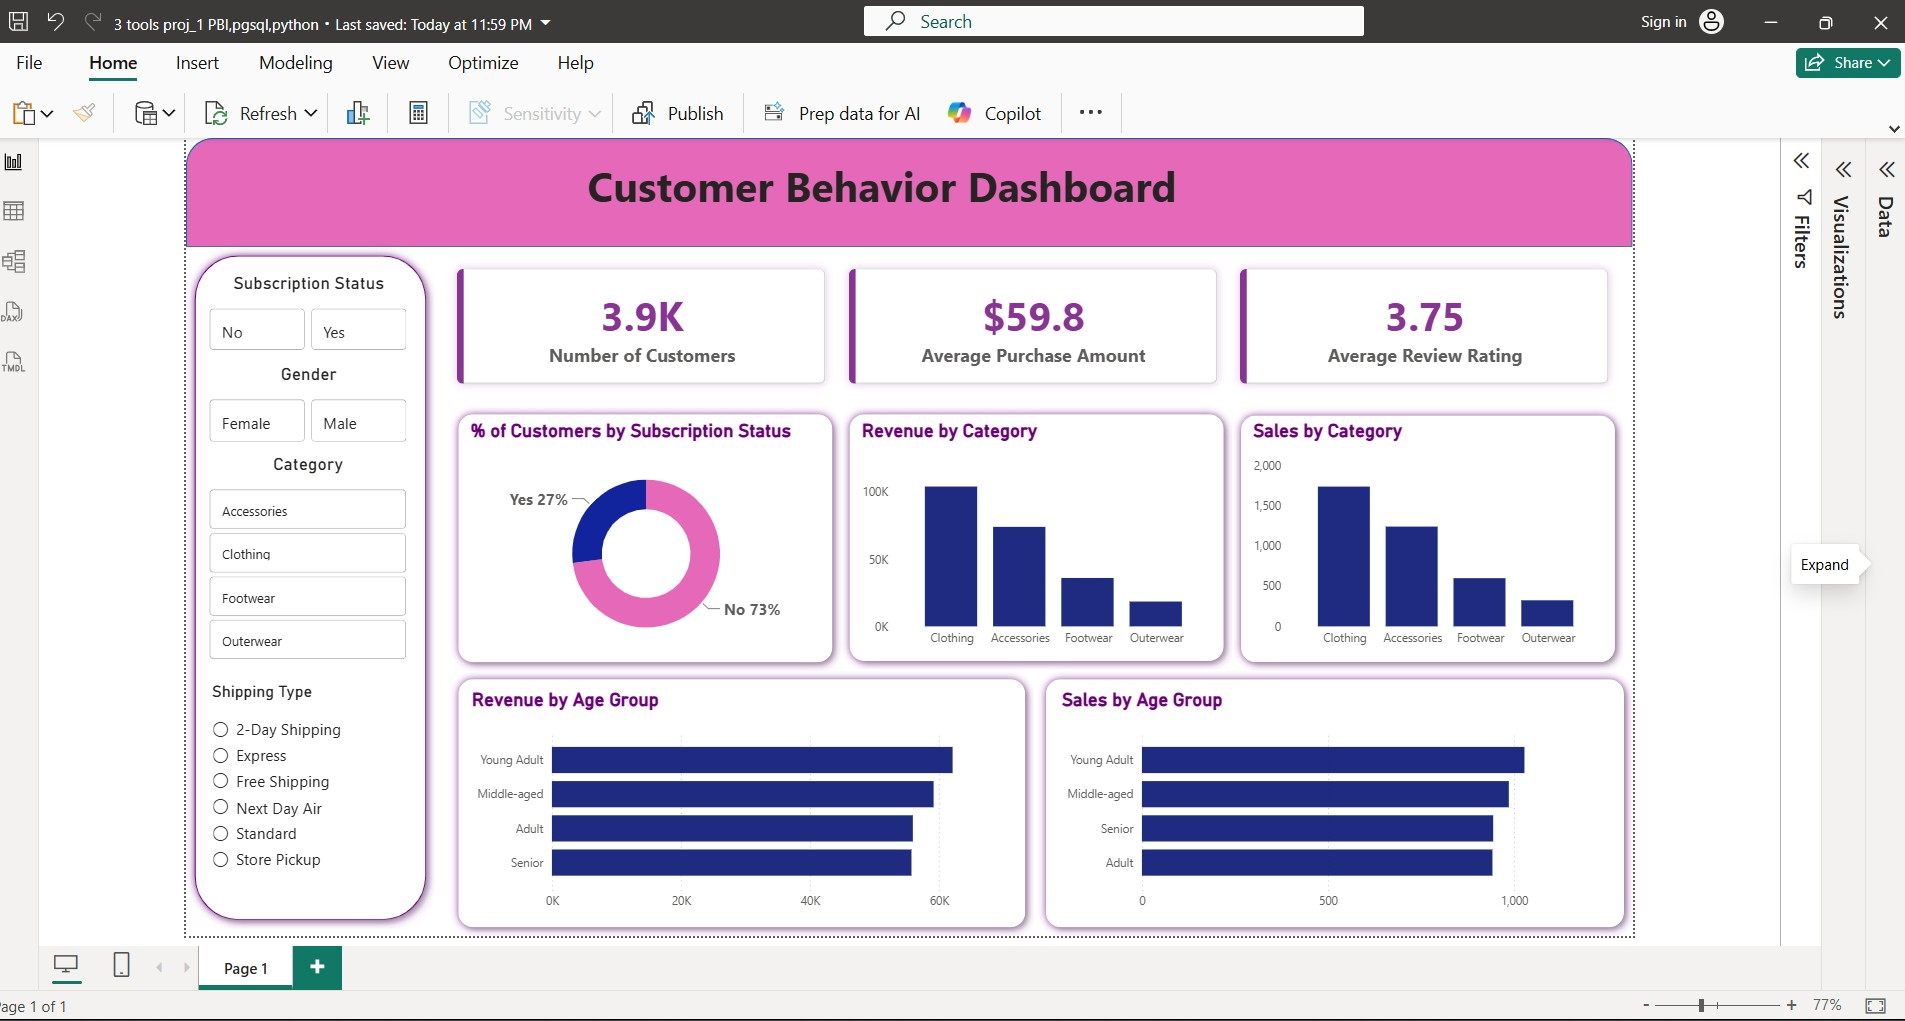

What the dashboard file says about the page in this screenshot:
{"tool":"powerbi","page":{"name":"Page 1","canvas":[1500,828],"ordinal":0},"visuals":[{"type":"cardVisual","fields":{"Data":["public customer.Number of Customers","public customer.Average Purchase Amount","public customer.Average Review Rating"]},"box":[258,113,1242,165.2],"z":0},{"type":"shape","box":[0,0,1500,113],"z":1000},{"type":"textbox","box":[336.2,15.9,772.5,72.5],"z":2000},{"type":"shape","box":[273.9,276.8,405.8,275.4],"z":3000},{"type":"donutChart","title":"% of Customers by Subscription Status","fields":{"Category":["public customer.subscription_status"],"Y":["CountNonNull(public customer.customer_id)"]},"box":[289.9,292.8,373.9,243.5],"z":4000},{"type":"shape","box":[679.7,276.8,405.8,273.9],"z":5000},{"type":"shape","box":[1085.5,278.3,405.8,273.9],"z":6000},{"type":"clusteredColumnChart","title":"Revenue by Category","fields":{"Y":["Sum(public customer.purchase_amount)"],"Category":["public customer.category"]},"box":[695.7,292.8,372.5,243.5],"z":7000},{"type":"clusteredColumnChart","title":"Sales by Category","fields":{"Category":["public customer.category"],"Y":["CountNonNull(public customer.customer_id)"]},"box":[1101.4,292.8,372.5,243.5],"z":8000},{"type":"shape","box":[0,113,258,707.2],"z":9000},{"type":"advancedSlicerVisual","title":"Subscription Status","fields":{"Values":["public customer.subscription_status"]},"box":[18.8,140.6,215.9,88.4],"z":10000},{"type":"advancedSlicerVisual","title":"Gender","fields":{"Values":["public customer.gender"]},"box":[18.8,233.3,215.9,89.9],"z":11000},{"type":"advancedSlicerVisual","title":"Category","fields":{"Values":["public customer.category"]},"box":[18.8,326.1,214.5,224],"z":12000},{"type":"shape","box":[273.9,552.2,605.8,275.4],"z":12500},{"type":"listSlicer","fields":{"Values":["public customer.shipping_type"]},"box":[21.7,563.8,214.5,215.9],"z":13000},{"type":"clusteredBarChart","title":"Revenue by Age Group","fields":{"Y":["Sum(public customer.purchase_amount)"],"Category":["public customer.age_group"]},"box":[291.3,571,571,237.7],"z":15000},{"type":"shape","box":[882.6,552.2,617.4,275.4],"z":16000},{"type":"clusteredBarChart","title":"Sales by Age Group","fields":{"Category":["public customer.age_group"],"Y":["CountNonNull(public customer.customer_id)"]},"box":[902.9,571,571,237.7],"z":16001}]}

Visuals, with their boxes on the page's 1500x828 design canvas (x1, y1, x2, y2). These are canvas units, not pixel positions in the 1905x1021 screenshot, which may show the page scaled, cropped or inside an application window:
cardVisual - public customer.Number of Customers x public customer.Average Purchase Amount: (x1=258, y1=113, x2=1500, y2=278)
shape: (x1=0, y1=0, x2=1500, y2=113)
textbox: (x1=336, y1=16, x2=1109, y2=88)
shape: (x1=274, y1=277, x2=680, y2=552)
"% of Customers by Subscription Status" donutChart: (x1=290, y1=293, x2=664, y2=536)
shape: (x1=680, y1=277, x2=1086, y2=551)
shape: (x1=1086, y1=278, x2=1491, y2=552)
"Revenue by Category" clusteredColumnChart: (x1=696, y1=293, x2=1068, y2=536)
"Sales by Category" clusteredColumnChart: (x1=1101, y1=293, x2=1474, y2=536)
shape: (x1=0, y1=113, x2=258, y2=820)
"Subscription Status" advancedSlicerVisual: (x1=19, y1=141, x2=235, y2=229)
"Gender" advancedSlicerVisual: (x1=19, y1=233, x2=235, y2=323)
"Category" advancedSlicerVisual: (x1=19, y1=326, x2=233, y2=550)
shape: (x1=274, y1=552, x2=880, y2=828)
listSlicer - public customer.shipping_type: (x1=22, y1=564, x2=236, y2=780)
"Revenue by Age Group" clusteredBarChart: (x1=291, y1=571, x2=862, y2=809)
shape: (x1=883, y1=552, x2=1500, y2=828)
"Sales by Age Group" clusteredBarChart: (x1=903, y1=571, x2=1474, y2=809)
